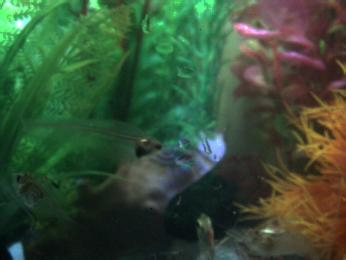X-ray fish: (8, 169, 72, 229), (193, 211, 219, 260)
glassfish: (17, 110, 166, 162)
siberian prawn: (223, 227, 325, 260)
